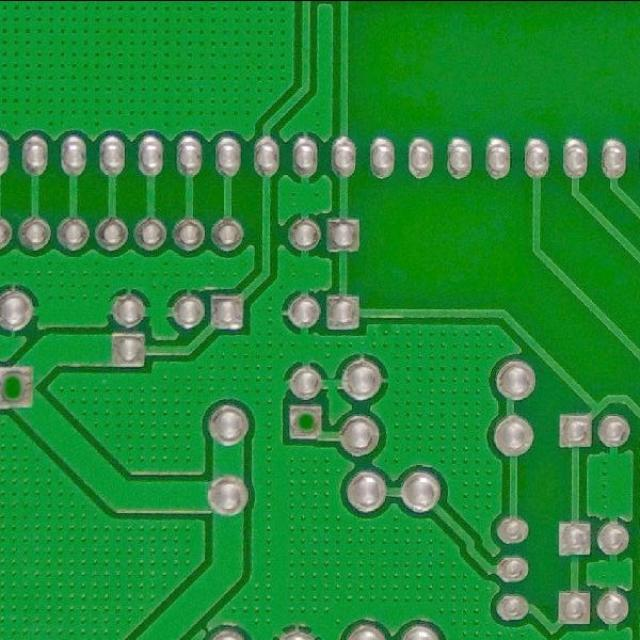Missing_Hole: (0, 358, 41, 415), (285, 399, 327, 444)
